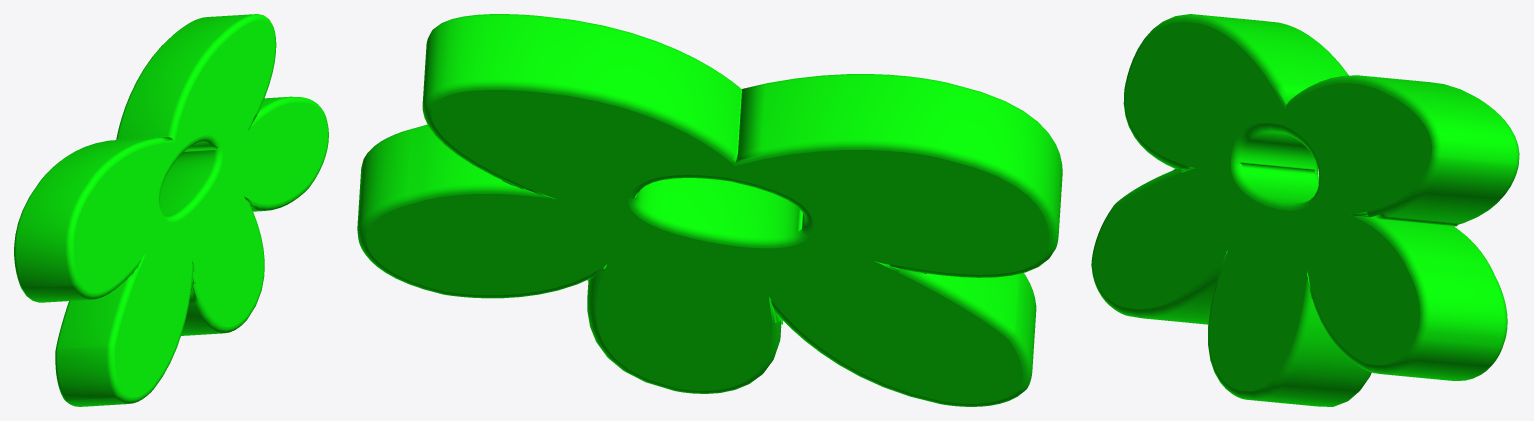
The model's file is florweb.glb.
3 views of the same model, side by side, from view 1: azimuth 30°, elevation 25°; view 2: azimuth 150°, elevation 25°; view 3: azimuth 270°, elevation 25° (orthographic). The views are drawn at different scales.
Parts seen in each view (by area): view 1: Curve; view 2: Curve; view 3: Curve.
Boxes of the visible parts, left/top/right/bottom form: Curve: left=14, top=14, right=328, bottom=406; Curve: left=357, top=14, right=1062, bottom=406; Curve: left=1091, top=14, right=1519, bottom=406.
Size of the model in its own units: 103 by 67.72 by 71.
